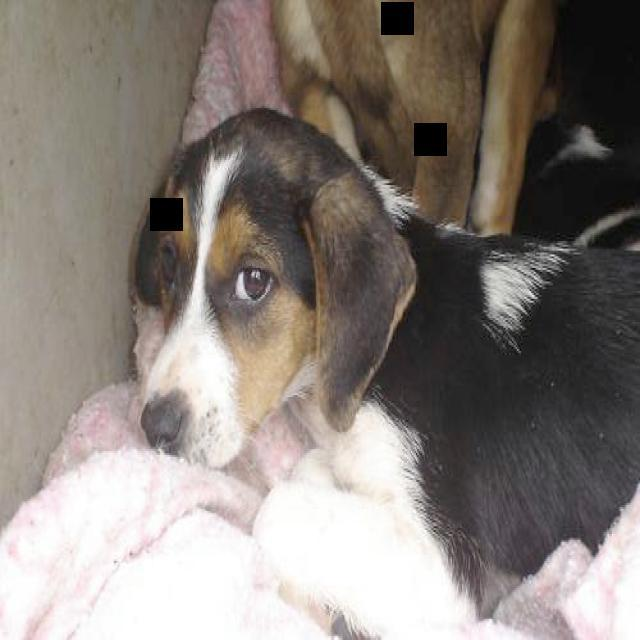adult_dog: (260, 0, 558, 238)
puppy-dog: (131, 107, 640, 638)
